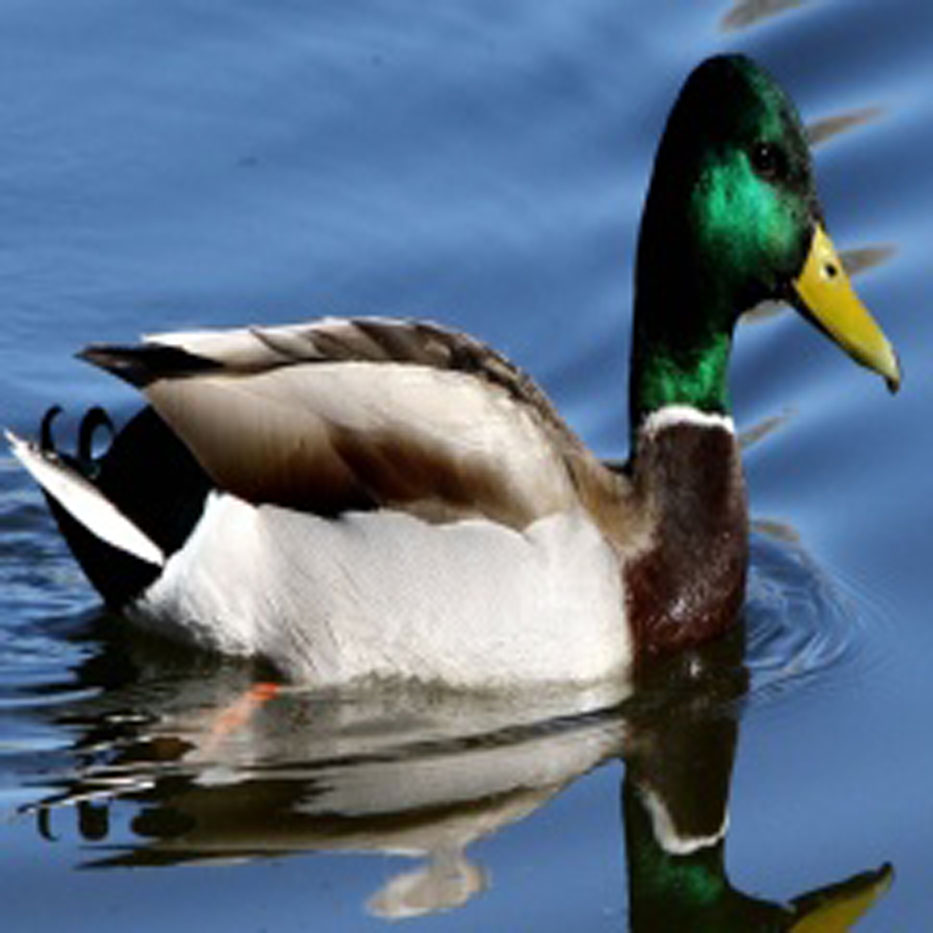Mencari Makan di Lumpur: (791, 227, 910, 407)
